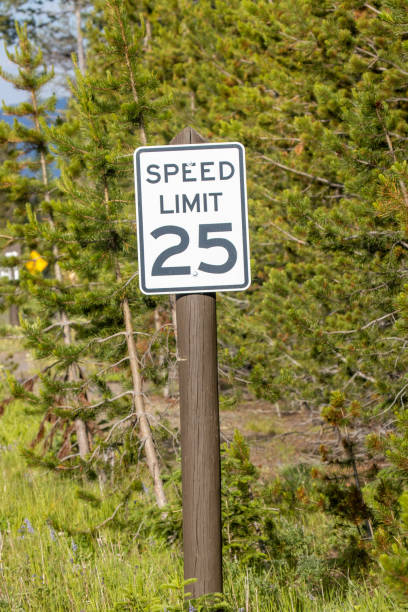SpeedLimitSign: (128, 141, 252, 294)
